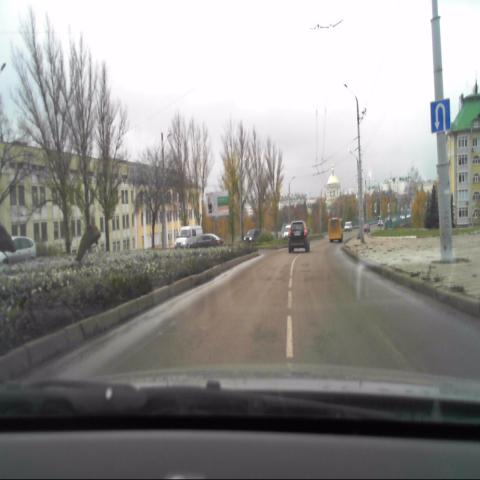6_3_1: (430, 98, 450, 132)
